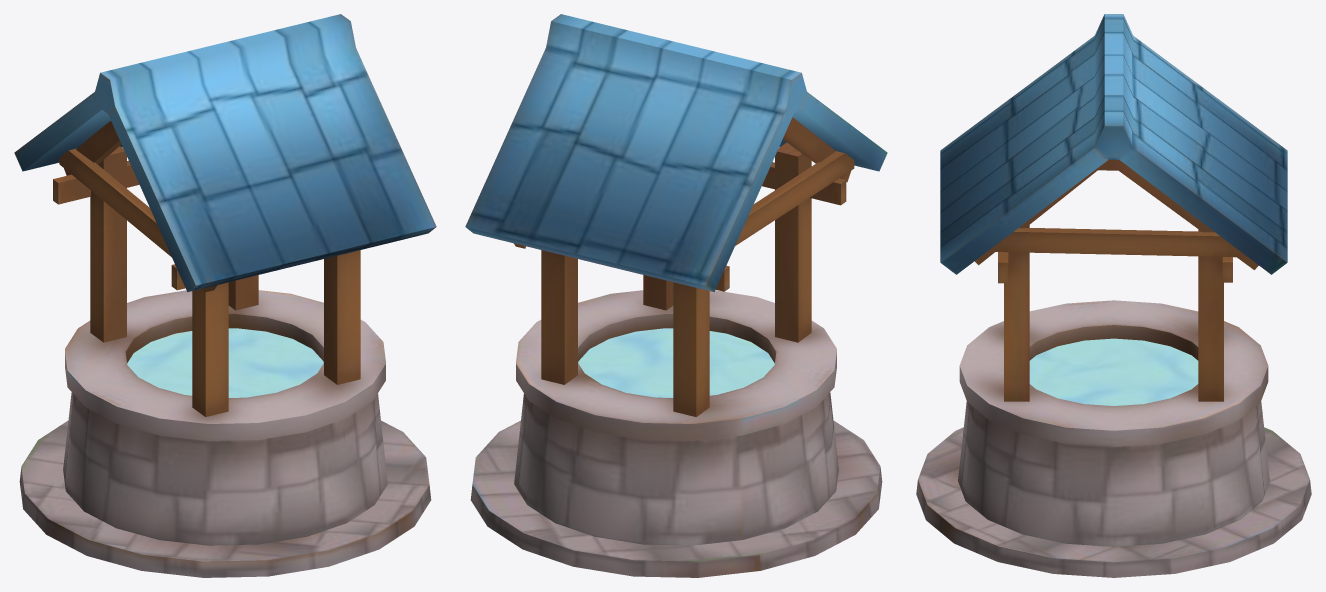
File: SM_Water_Well.glb
The picture shows the model from 3 angles, left to right: view 1: azimuth 30°, elevation 25°; view 2: azimuth 150°, elevation 25°; view 3: azimuth 270°, elevation 25°; orthographic projection. The views are drawn at different scales.
Parts seen in each view (by area): view 1: SM_Water_Well; view 2: SM_Water_Well; view 3: SM_Water_Well.
Part boxes in pixels (box(x1,y1,x2,y2)): SM_Water_Well: box(14, 14, 436, 577); SM_Water_Well: box(465, 14, 887, 577); SM_Water_Well: box(916, 14, 1311, 577).
Size of the model in its own units: 248 by 294 by 248.
1 material, 1 textured.
